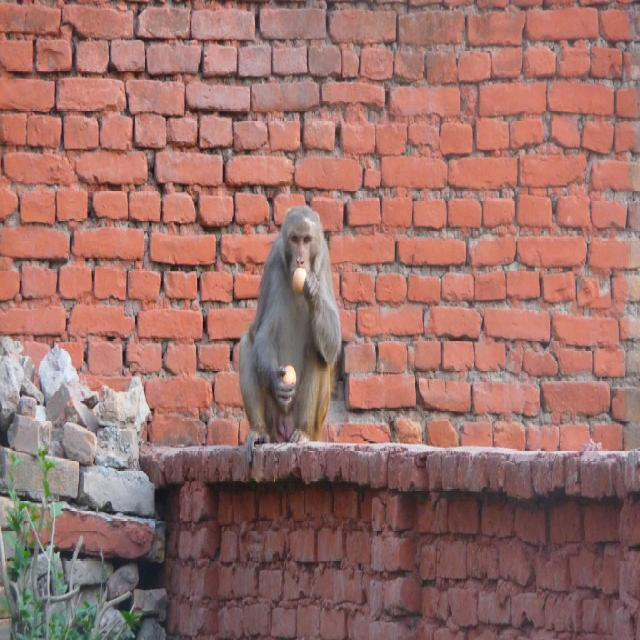Monkey: (239, 202, 344, 463)
